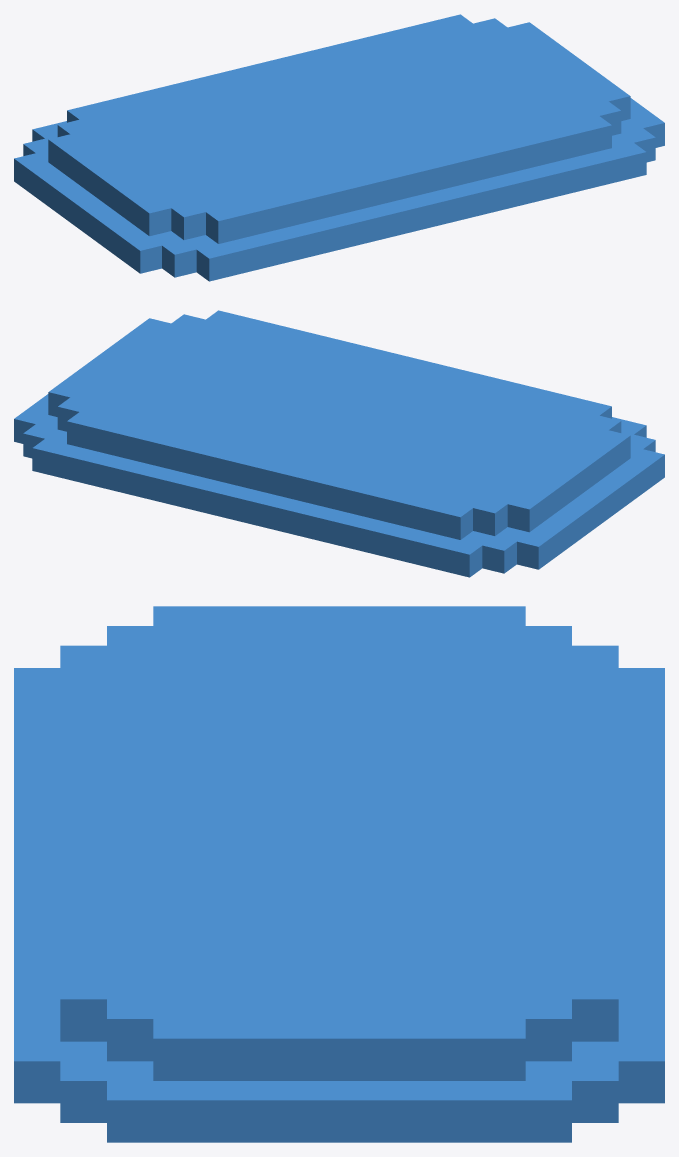
Rendered from Smol-Platform 2.obj.
3 renders of one model, top to bottom at view 1: azimuth 30°, elevation 25°; view 2: azimuth 150°, elevation 25°; view 3: azimuth 270°, elevation 25°, orthographic. The views are drawn at different scales.
Size of the model in its own units: 2.4 by 0.4 by 1.4.
Materials: 1 (1 with a texture image).
